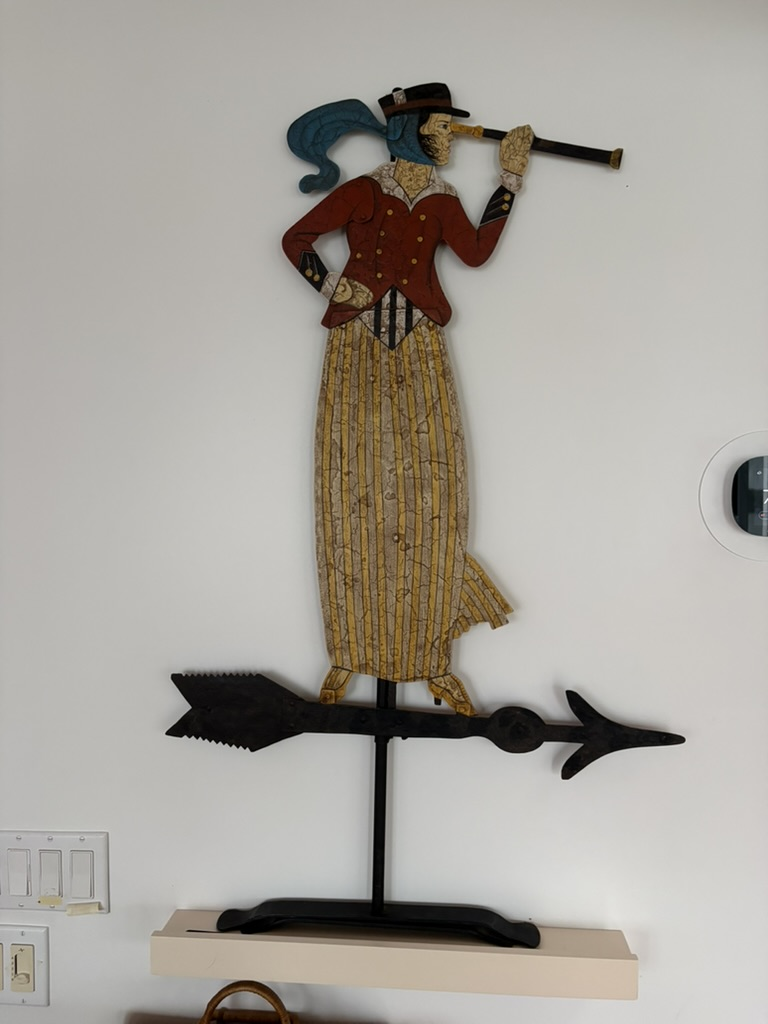box: (163, 70, 688, 965)
